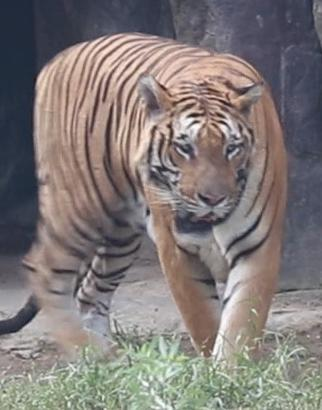tiger: (0, 33, 286, 357)
